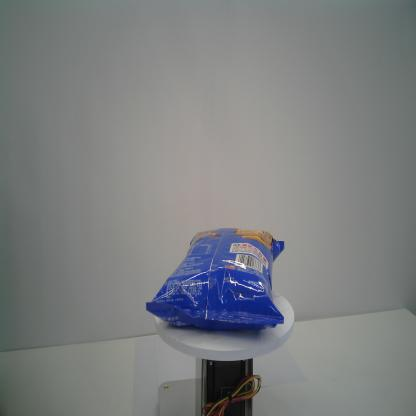Puffed Food: (145, 225, 286, 335)
